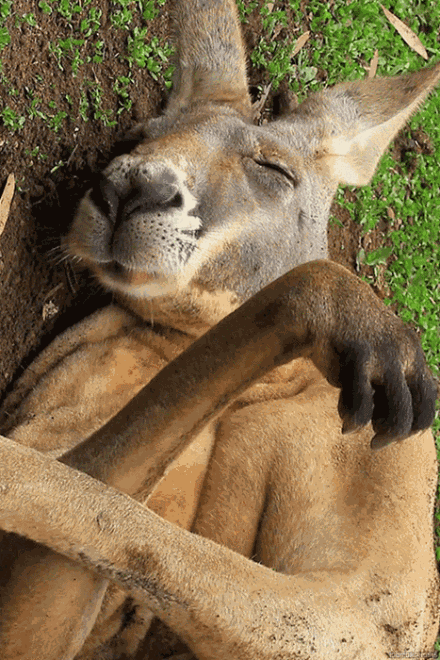kangaroo: (2, 3, 435, 653)
